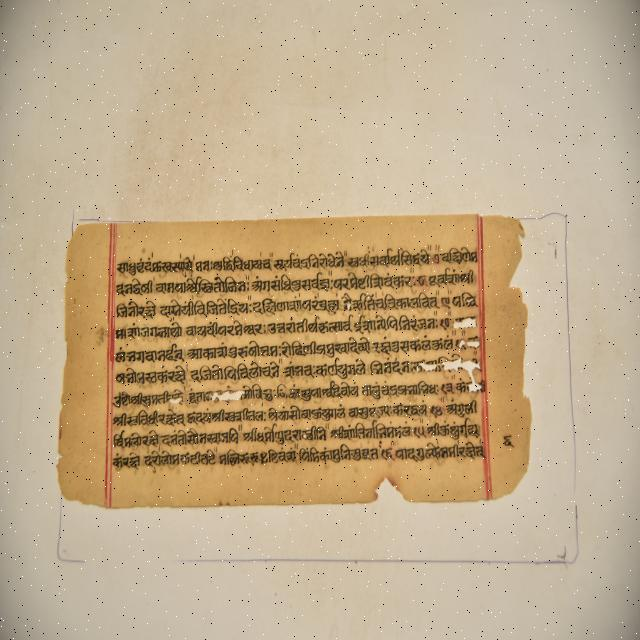text_paragraph: (65, 215, 527, 503)
